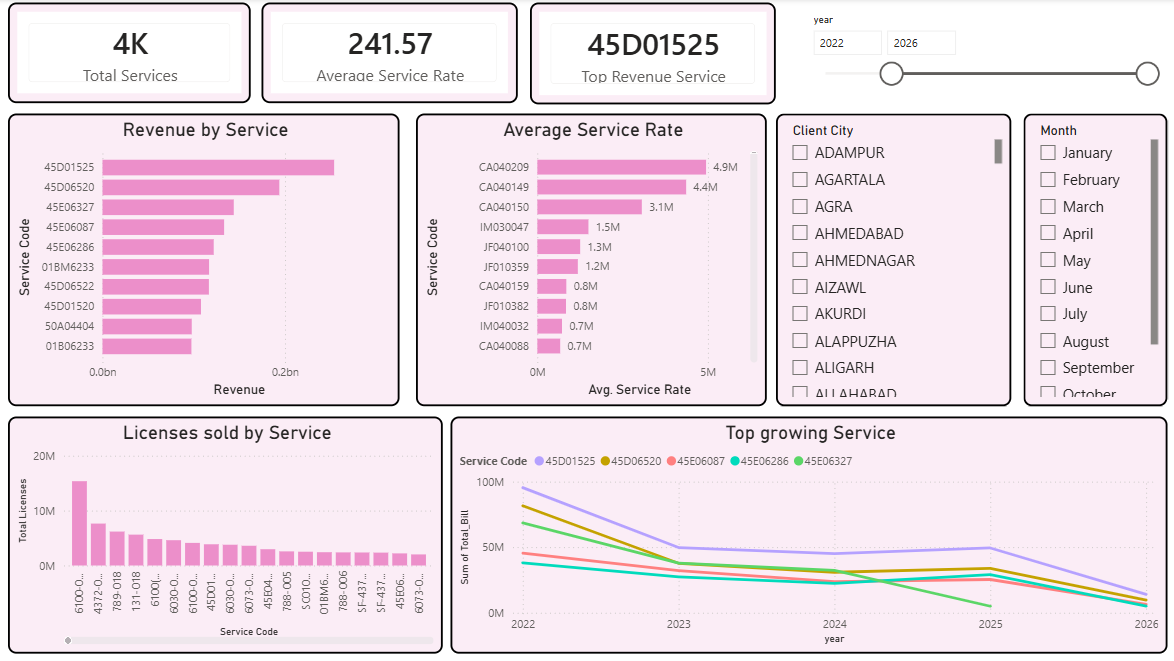

What the dashboard file says about the page in this screenshot:
{"tool":"powerbi","page":{"name":"Service Analytics","canvas":[1280,720],"ordinal":2},"visuals":[{"type":"cardVisual","fields":{"Data":["MeasureTable.Total Services"]},"box":[9.7,4.9,262.3,108.5],"z":0},{"type":"cardVisual","fields":{"Data":["MeasureTable.Average Service Rate"]},"box":[283.4,4.9,276.9,108.5],"z":1000},{"type":"cardVisual","fields":{"Data":["MeasureTable.Top Revenue Service"]},"box":[573.2,4.9,265.6,110.1],"z":2000},{"type":"clusteredBarChart","title":"Revenue by Service ","fields":{"Category":["forecast_sales_data.Service Code"],"Y":["Sum(forecast_sales_data.Total_Bill)"]},"box":[9.7,124.7,422.6,315.7],"z":3000},{"type":"clusteredColumnChart","title":"Licenses sold by Service","fields":{"Y":["MeasureTable.Total Licenses"],"Category":["forecast_sales_data.Service Code"]},"box":[9.7,451.8,469.6,255.8],"z":4000},{"type":"barChart","title":"Average Service Rate","fields":{"Category":["forecast_sales_data.Service Code"],"Y":["MeasureTable.Average Service Rate"]},"box":[450.1,124.7,378.9,315.7],"z":5000},{"type":"lineChart","title":"Top growing Service","fields":{"Series":["forecast_sales_data.Service Code"],"Y":["Sum(forecast_sales_data.Total_Bill)"],"Category":["forecast_sales_data.year"]},"box":[487.4,451.8,774,255.8],"z":6000},{"type":"slicer","fields":{"Values":["forecast_sales_data.year"]},"box":[866.3,11.3,395.1,102],"z":7000},{"type":"slicer","fields":{"Values":["forecast_sales_data.Month"]},"box":[1105.9,124.7,155.4,315.7],"z":8000},{"type":"slicer","fields":{"Values":["forecast_sales_data.Client City"]},"box":[838.8,124.7,254.2,315.7],"z":9000}]}

Visuals, with their boxes in screenshot pixels (x1, y1, x2, y2), scaled from the page's 1280x720 canvas onto the 1174x661 screenshot:
cardVisual - MeasureTable.Total Services: left=9, top=4, right=249, bottom=104
cardVisual - MeasureTable.Average Service Rate: left=260, top=4, right=514, bottom=104
cardVisual - MeasureTable.Top Revenue Service: left=526, top=4, right=769, bottom=106
"Revenue by Service " clusteredBarChart: left=9, top=114, right=397, bottom=404
"Licenses sold by Service" clusteredColumnChart: left=9, top=415, right=440, bottom=650
"Average Service Rate" barChart: left=413, top=114, right=760, bottom=404
"Top growing Service" lineChart: left=447, top=415, right=1157, bottom=650
slicer - forecast_sales_data.year: left=795, top=10, right=1157, bottom=104
slicer - forecast_sales_data.Month: left=1014, top=114, right=1157, bottom=404
slicer - forecast_sales_data.Client City: left=769, top=114, right=1002, bottom=404
